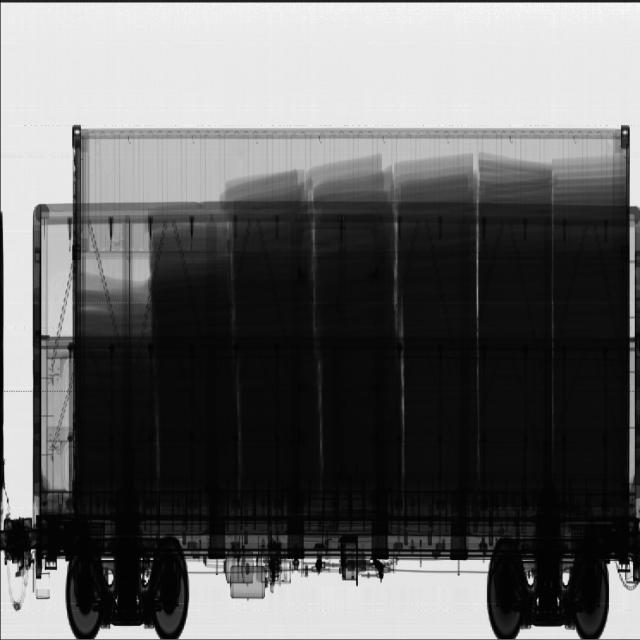fabrics: (75, 150, 627, 501)
